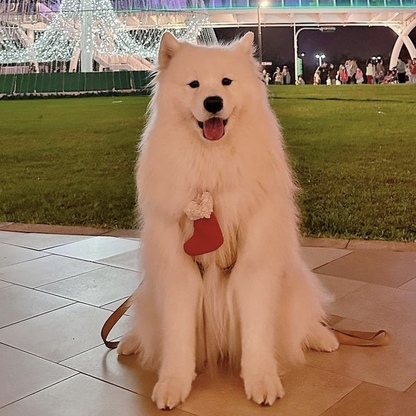samoyed: (116, 24, 340, 410)
